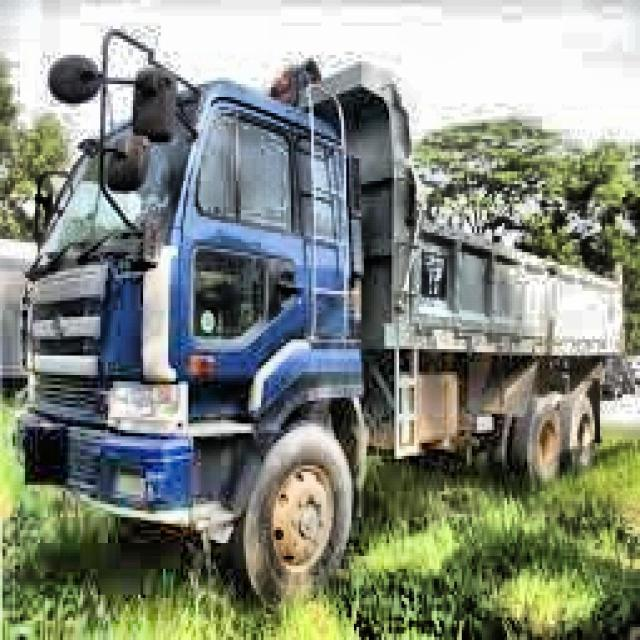dump_truck: (21, 52, 624, 610)
